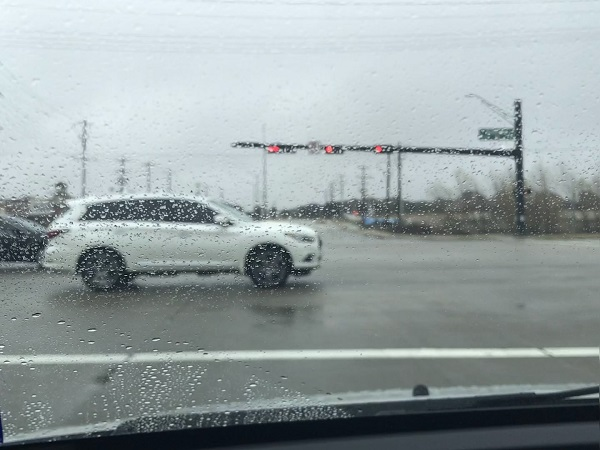car: (41, 198, 323, 293)
